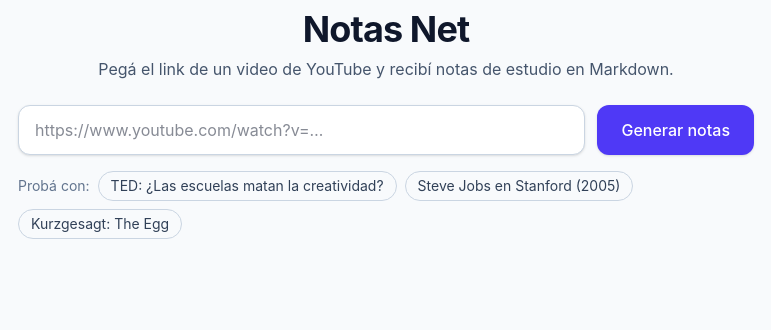
Test: App › shows a friendly message on error
The image size is (771, 330).
Type "https://youtu.be/dQw4w9WgXcQ" into the field named "Link de YouTube" at (302, 130), box [18,105,585,155]
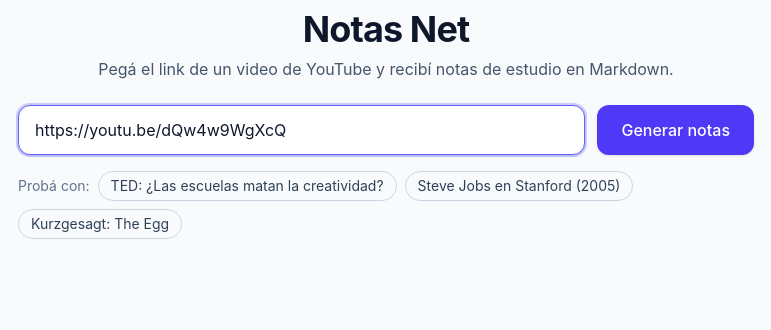
Click the button "Generar notas" at (676, 130), box [597,105,754,155]
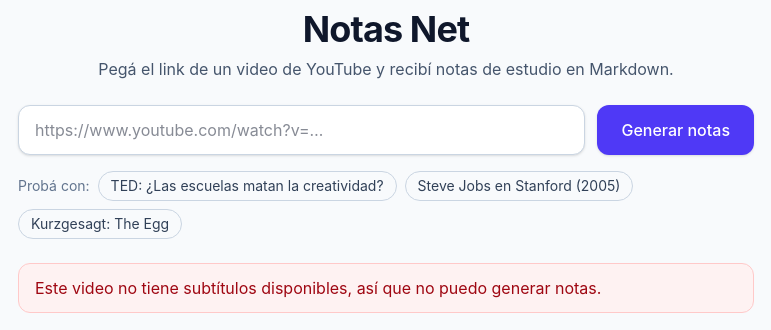
Expected: the message shows "no tiene subtítulos", [35,278,601,298]
